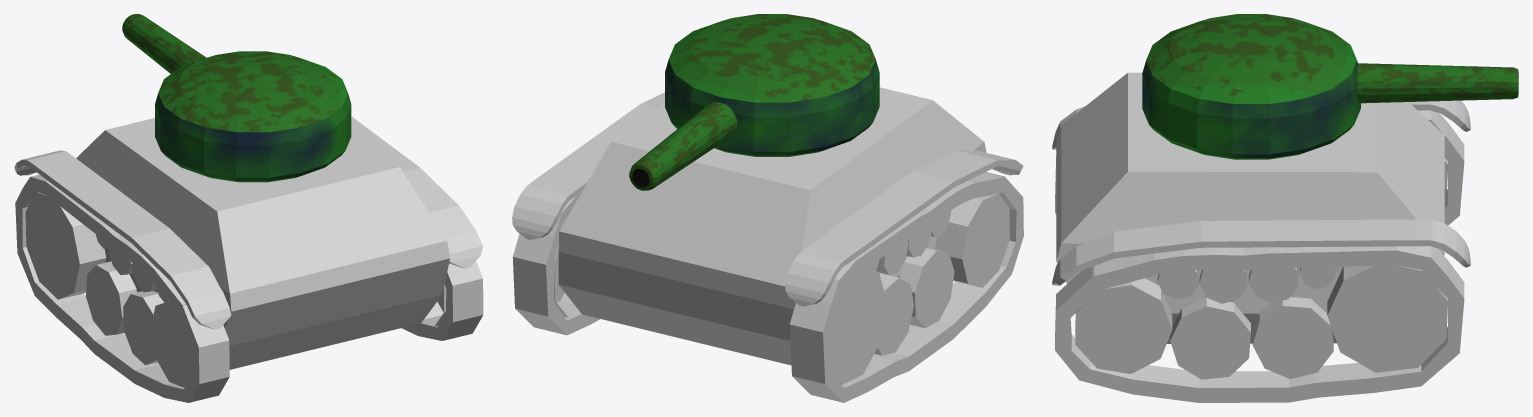
The model's file is TANK.fbx.
3 renders of one model, left to right at view 1: azimuth 30°, elevation 25°; view 2: azimuth 150°, elevation 25°; view 3: azimuth 270°, elevation 25°, orthographic. The views are drawn at different scales.
Parts seen in each view (by area): view 1: Tank_Body, Tank_Turret; view 2: Tank_Body, Tank_Turret; view 3: Tank_Body, Tank_Turret.
Boxes of the visible parts, <box> form: Tank_Body: <box>14,116,483,402</box>; Tank_Turret: <box>122,14,351,182</box>; Tank_Body: <box>512,87,1023,402</box>; Tank_Turret: <box>629,14,879,190</box>; Tank_Body: <box>1052,72,1470,402</box>; Tank_Turret: <box>1142,14,1518,159</box>.
Bounding box in the file's own units: 352 × 303 × 444.
